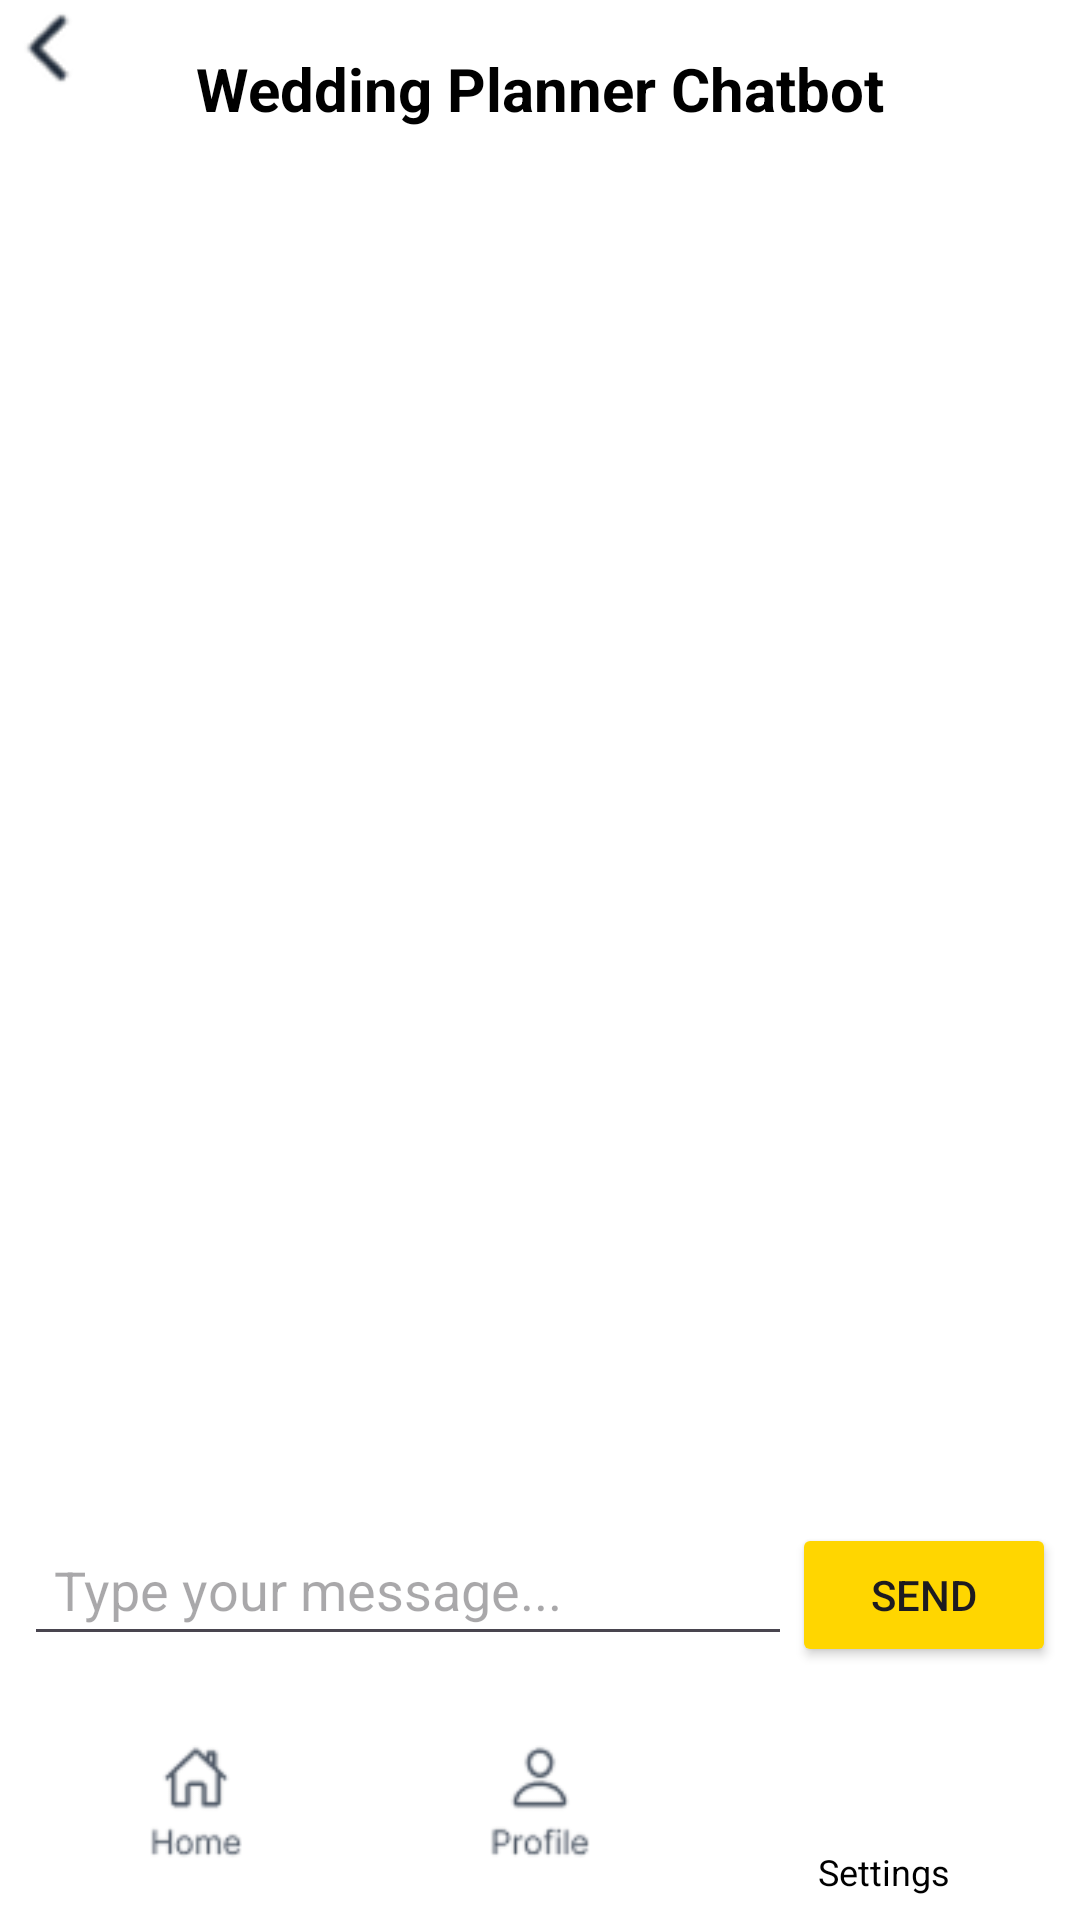

Where icons sit on this 1080 × 1920 app screen, as box=[x1, y1, x2, y2]:
Back: box=[27, 14, 69, 82]
